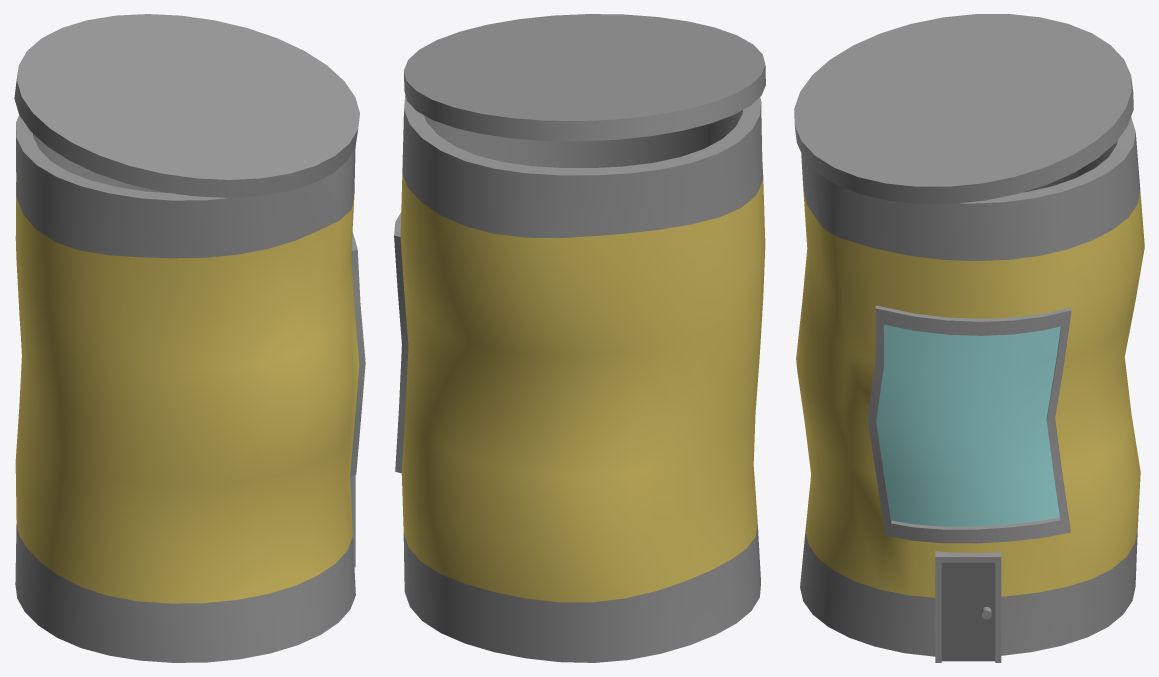
File: Can_Yellow.fbx
The picture shows the model from 3 angles, left to right: view 1: azimuth 30°, elevation 25°; view 2: azimuth 150°, elevation 25°; view 3: azimuth 270°, elevation 25°; orthographic projection. The views are drawn at different scales.
Visible parts, largest first — view 1: Cube; view 2: Cube; view 3: Cube.
Boxes of the visible parts, x1,y1,x2,y2 form: Cube: (14, 14, 365, 662); Cube: (394, 14, 765, 662); Cube: (794, 14, 1144, 662).
Size of the model in its own units: 314 by 501 by 312.
